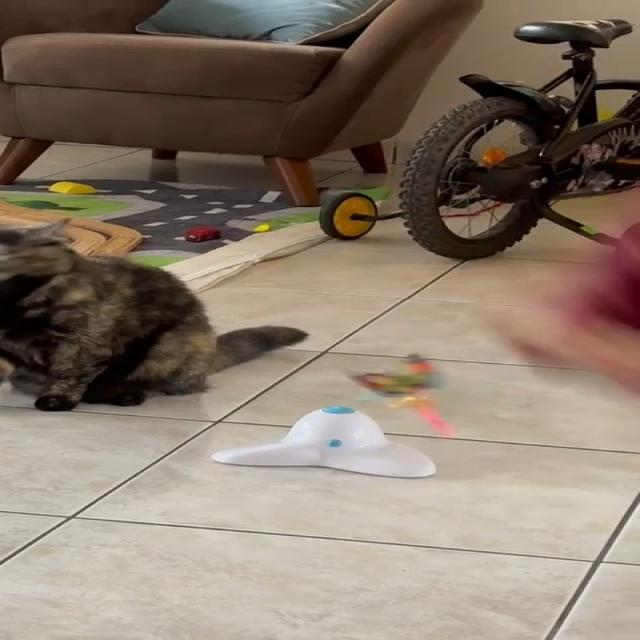authorized: (0, 217, 309, 411)
